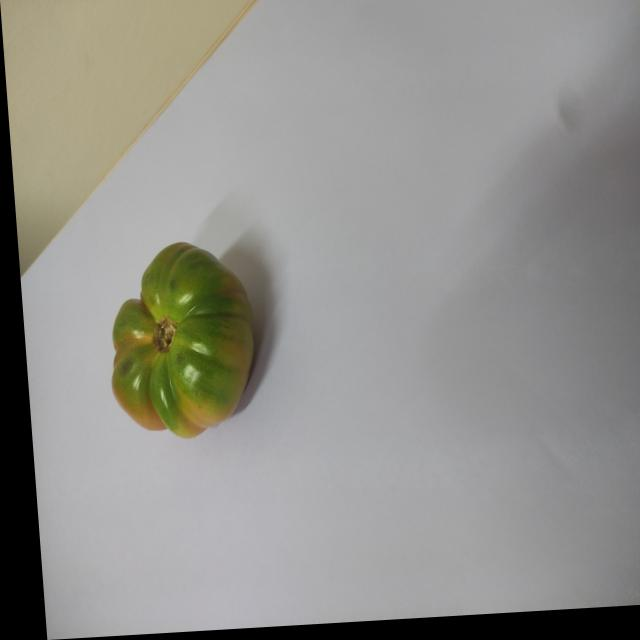yesil: (88, 234, 269, 448)
